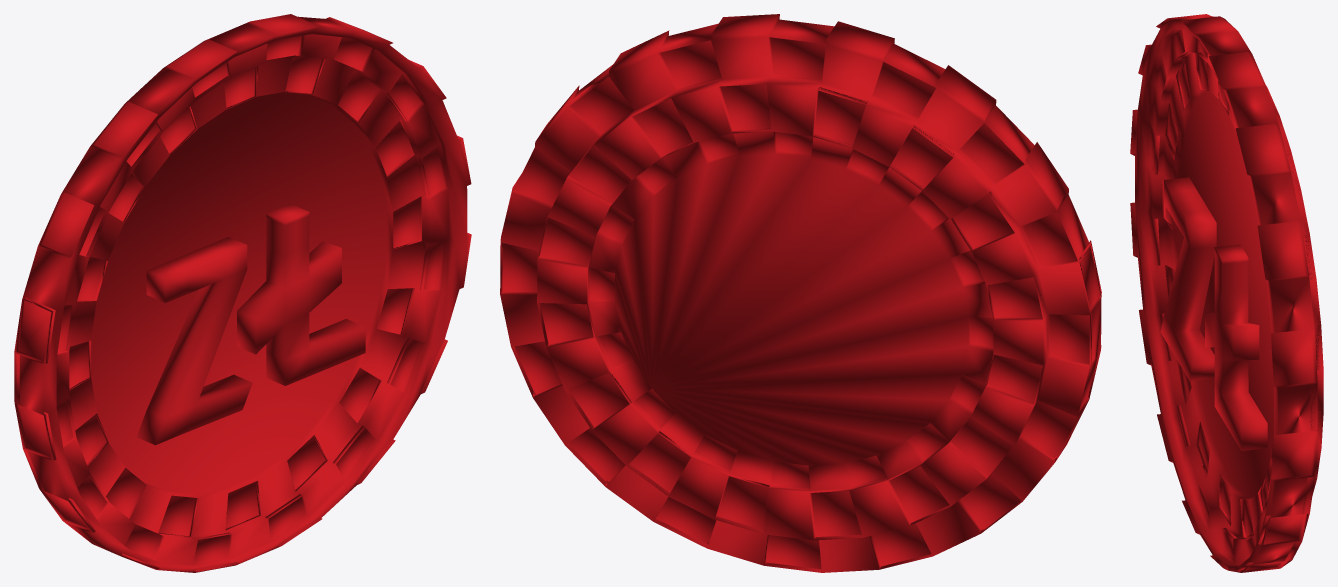
The model's file is coinbronze.fbx.
The picture shows the model from 3 angles, left to right: view 1: azimuth 30°, elevation 25°; view 2: azimuth 150°, elevation 25°; view 3: azimuth 270°, elevation 25°; orthographic projection. The views are drawn at different scales.
Visible parts, largest first — view 1: Circle; view 2: Circle; view 3: Circle.
Part boxes in pixels (bbox=[...]): Circle: bbox=[14, 14, 471, 572]; Circle: bbox=[500, 14, 1101, 572]; Circle: bbox=[1130, 14, 1323, 572].
Size of the model in its own units: 197 by 191 by 66.92.
